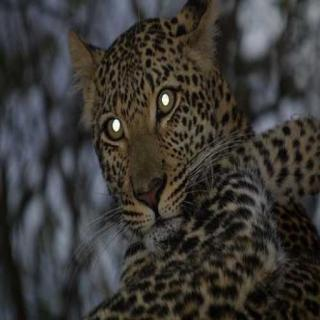Leopard: (61, 4, 320, 320)
